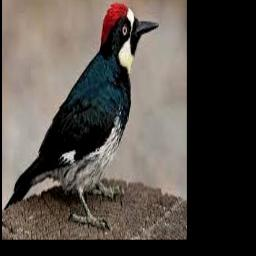Woodpecker: (4, 2, 159, 226)
